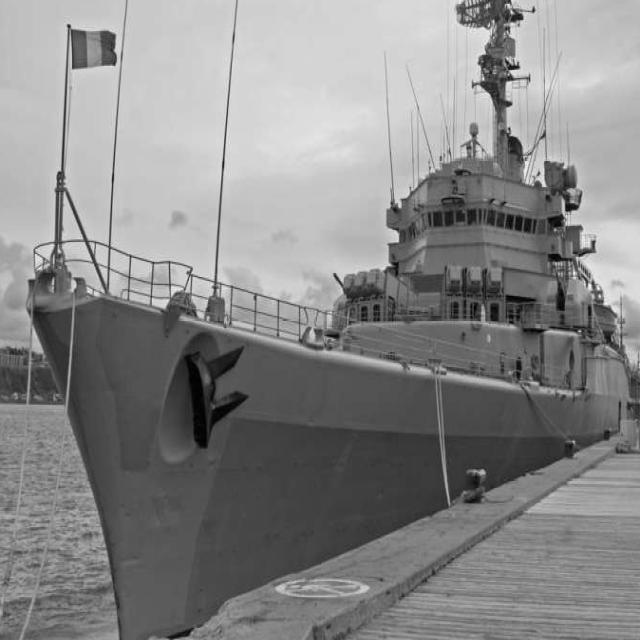Portanaves: (29, 1, 629, 640)
